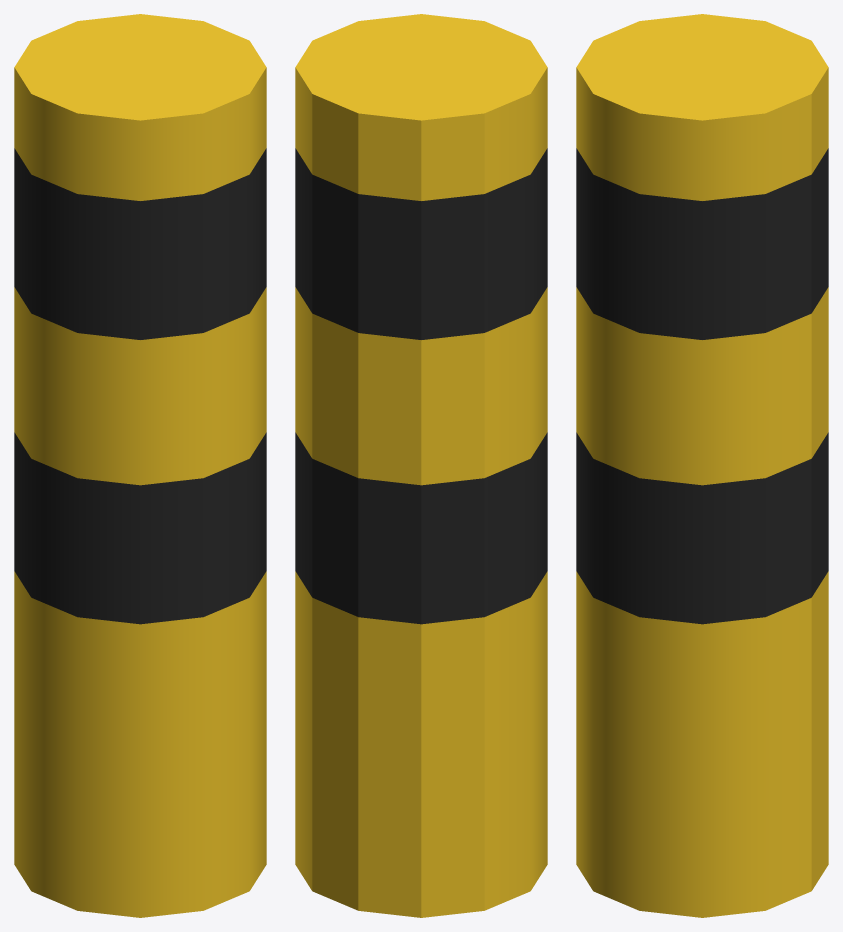
The model's file is SM_column_3.gltf.
3 renders of one model, left to right at view 1: azimuth 30°, elevation 25°; view 2: azimuth 150°, elevation 25°; view 3: azimuth 270°, elevation 25°, orthographic.
Visible parts, largest first — view 1: SM_column_3; view 2: SM_column_3; view 3: SM_column_3.
Boxes of the visible parts, box(x1,y1,x2,y2) form: SM_column_3: box(14, 14, 266, 917); SM_column_3: box(295, 14, 547, 917); SM_column_3: box(576, 14, 828, 917).
Bounding box in the file's own units: 0.1957 × 0.6826 × 0.1957.
1 material, 1 textured.
